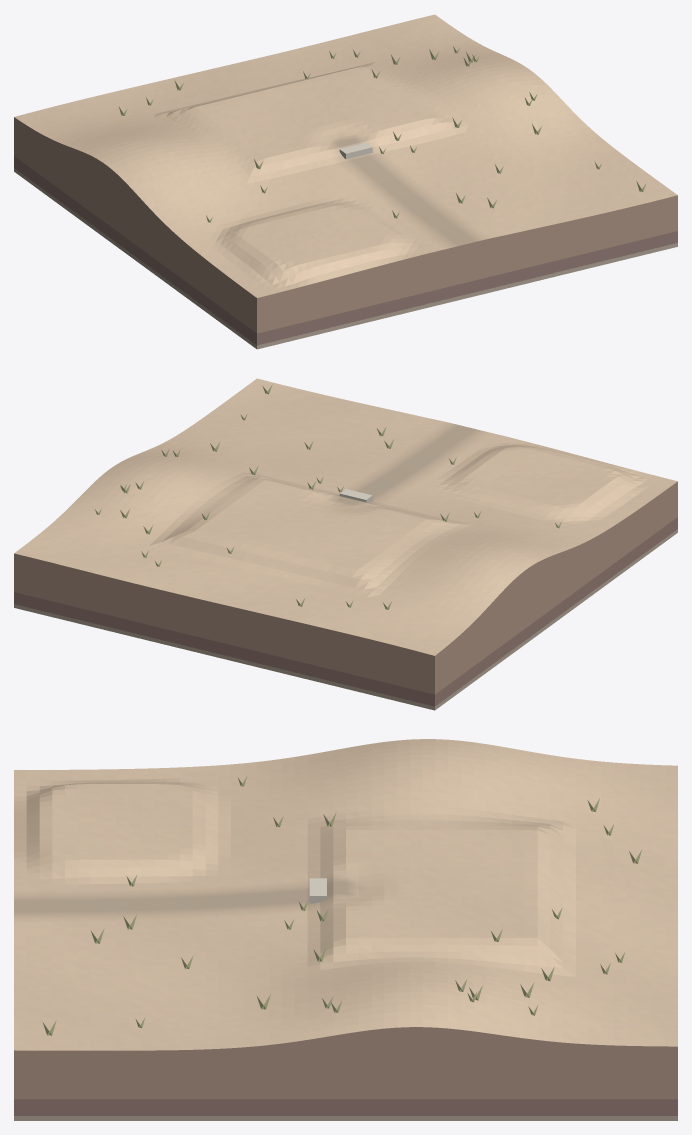
3 renders of one model, top to bottom at view 1: azimuth 30°, elevation 25°; view 2: azimuth 150°, elevation 25°; view 3: azimuth 270°, elevation 25°, orthographic. The views are drawn at different scales.
Parts seen in each view (by area): view 1: proc_ground, proc_skirt, proc_grass; view 2: proc_ground, proc_skirt, proc_grass; view 3: proc_ground, proc_skirt, proc_grass.
Boxes of the visible parts, x1,y1,x2,y2 form: proc_ground: [14, 14, 677, 297]; proc_skirt: [14, 117, 677, 349]; proc_grass: [118, 46, 646, 222]; proc_ground: [14, 378, 677, 655]; proc_skirt: [14, 481, 677, 710]; proc_grass: [95, 384, 561, 609]; proc_ground: [14, 739, 677, 1050]; proc_skirt: [14, 1027, 677, 1120]; proc_grass: [42, 776, 642, 1035].
Size of the model in its own units: 8 by 1.47 by 8.
